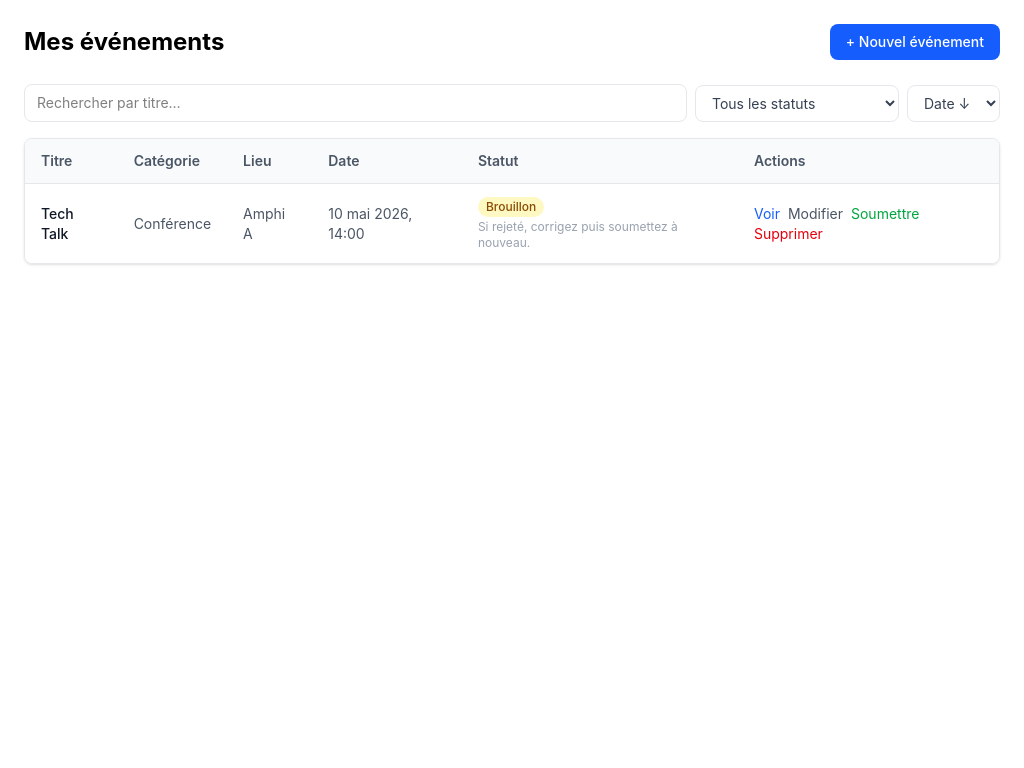
Test: MyEventsPage › removes event from list after successful deletion
Click the button "Supprimer" at coordinates (788, 234), box [754,224,823,244]
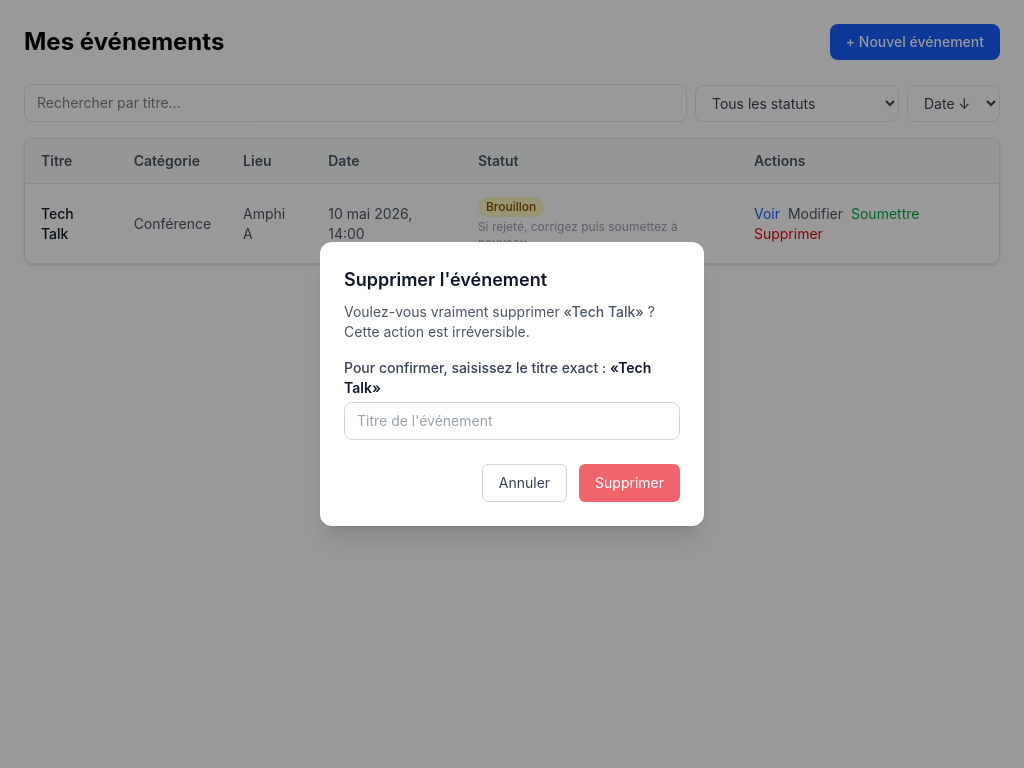
Type "Tech Talk" into the field with placeholder "Titre de l'événement" at coordinates (512, 421), box [344,402,680,440]
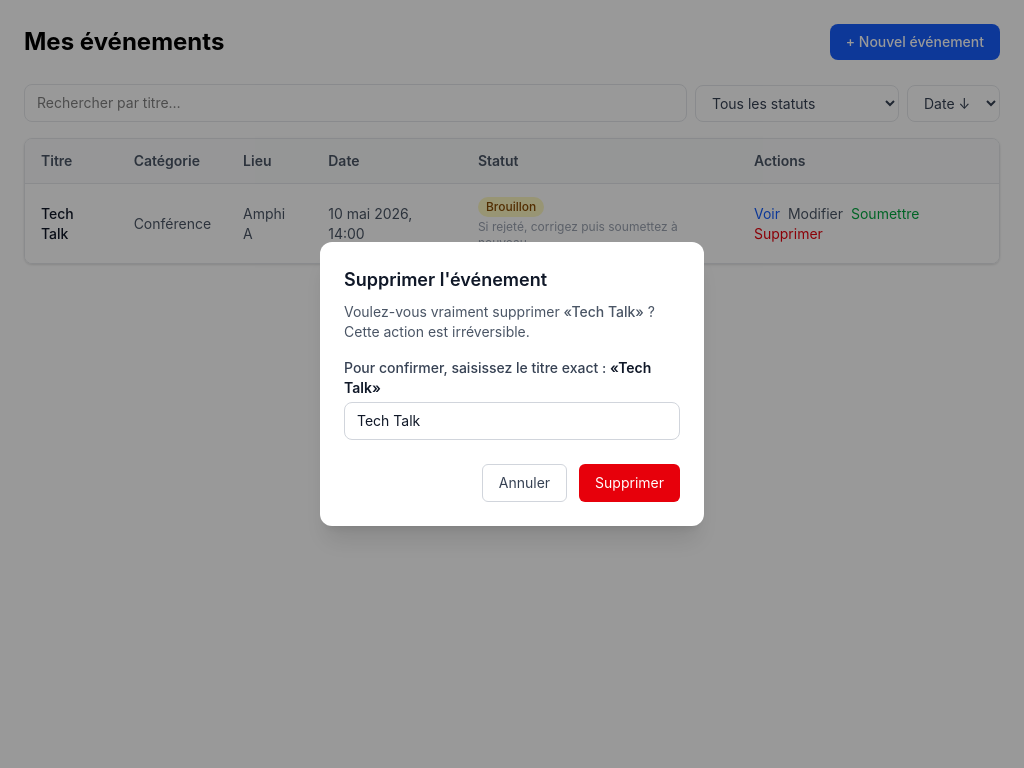
Click the button "Supprimer" at coordinates (630, 483), box [579,464,680,502]
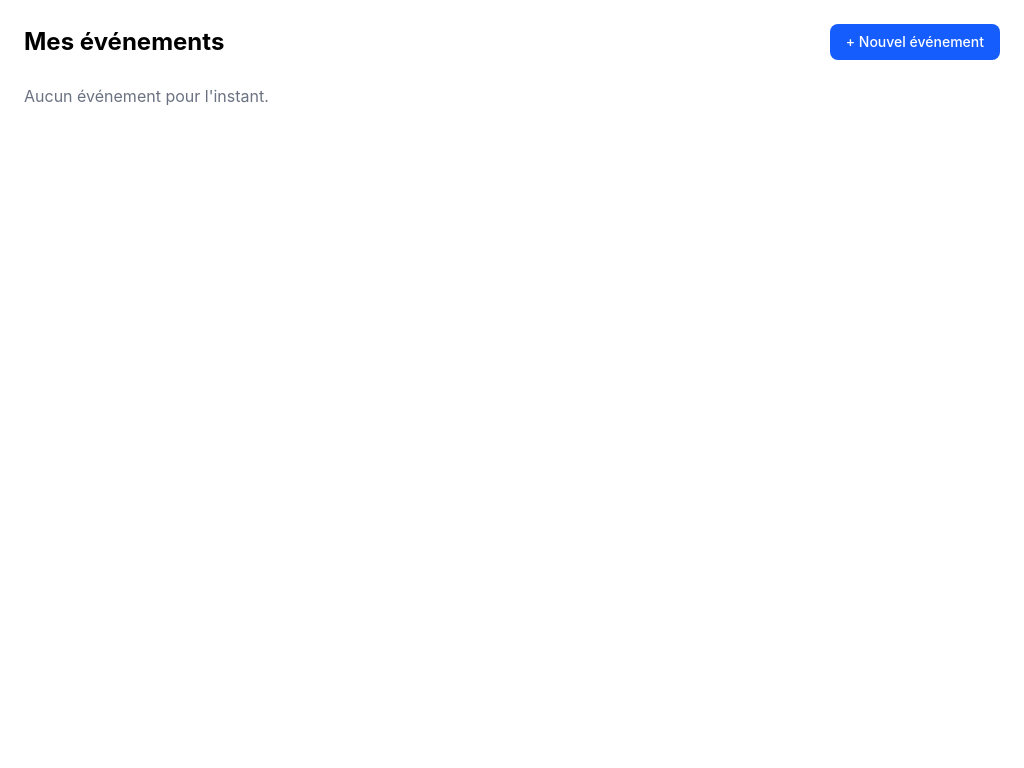
Expected: the text "Tech Talk" is gone
